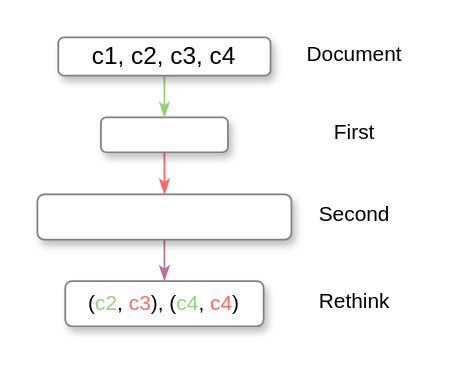
Some shapes in this 449 by 369 pixel diagram are drawn without their labels. Each missing label, with the centre of its shape:
"( c2 , c3 ), ( c2 , c4 ), ( c4 , c4 )" goes at (165,219).
"c2, c4" goes at (165,136).
